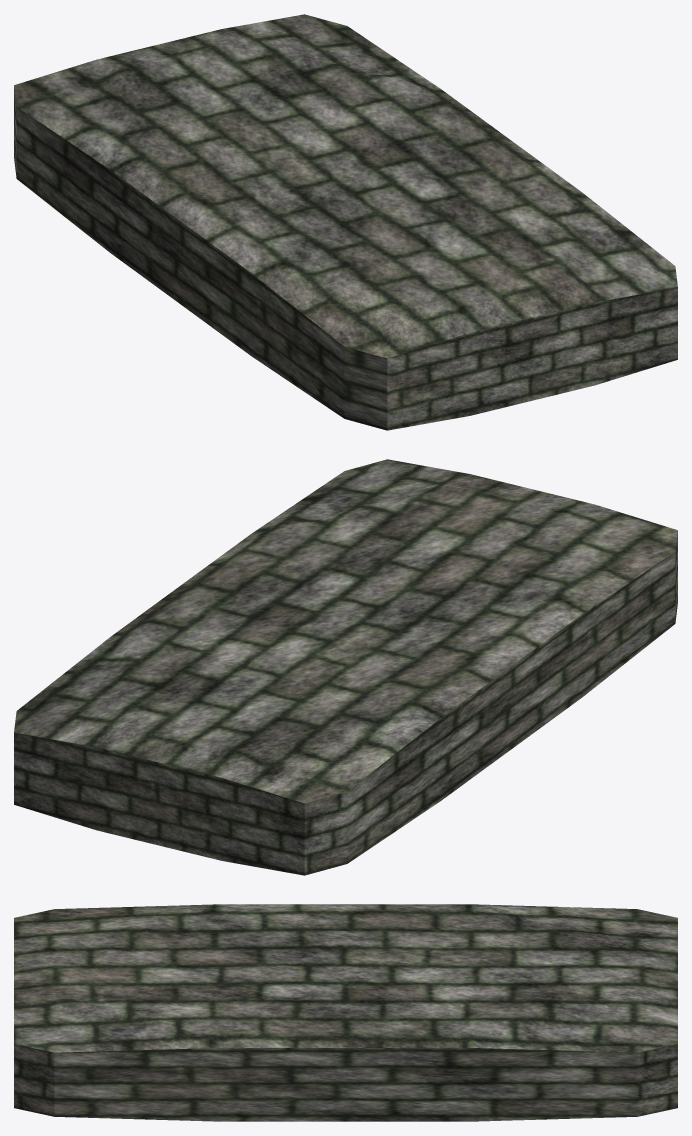
File: BasePlataforma.fbx
3 views of the same model, one above another, from view 1: azimuth 30°, elevation 25°; view 2: azimuth 150°, elevation 25°; view 3: azimuth 270°, elevation 25° (orthographic). The views are drawn at different scales.
Parts seen in each view (by area): view 1: Cube.083; view 2: Cube.083; view 3: Cube.083.
Part boxes in pixels (x1,y1,x2,y2): Cube.083: (14, 14, 677, 430); Cube.083: (14, 459, 677, 875); Cube.083: (14, 904, 677, 1121).
Size of the model in its own units: 296 by 80.88 by 579.
